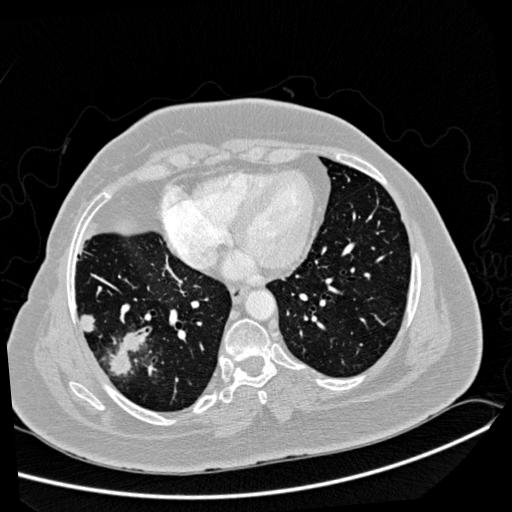nodule: (76, 312, 98, 334)
